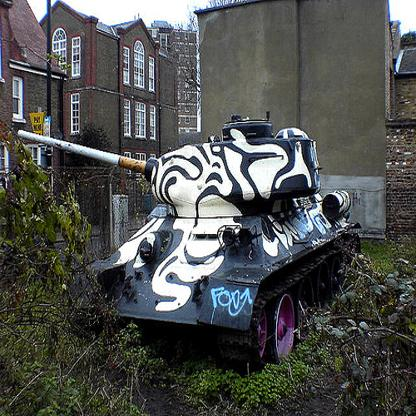Tank: (69, 117, 374, 369)
